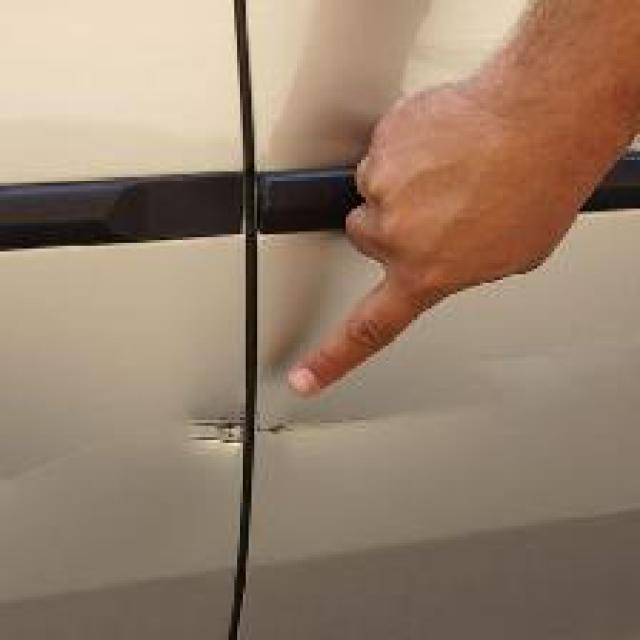door_dent_minor: (154, 354, 240, 454), (254, 351, 294, 431)
